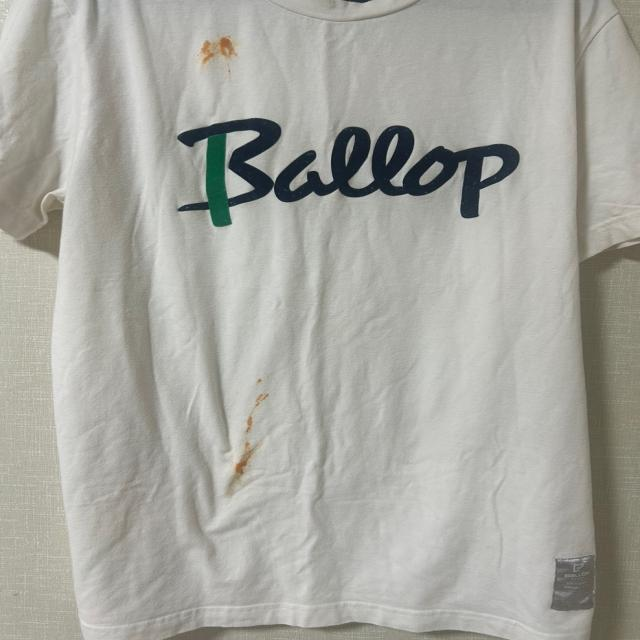stain: (243, 374, 269, 432), (217, 29, 255, 68), (232, 439, 264, 476), (201, 30, 225, 66)
